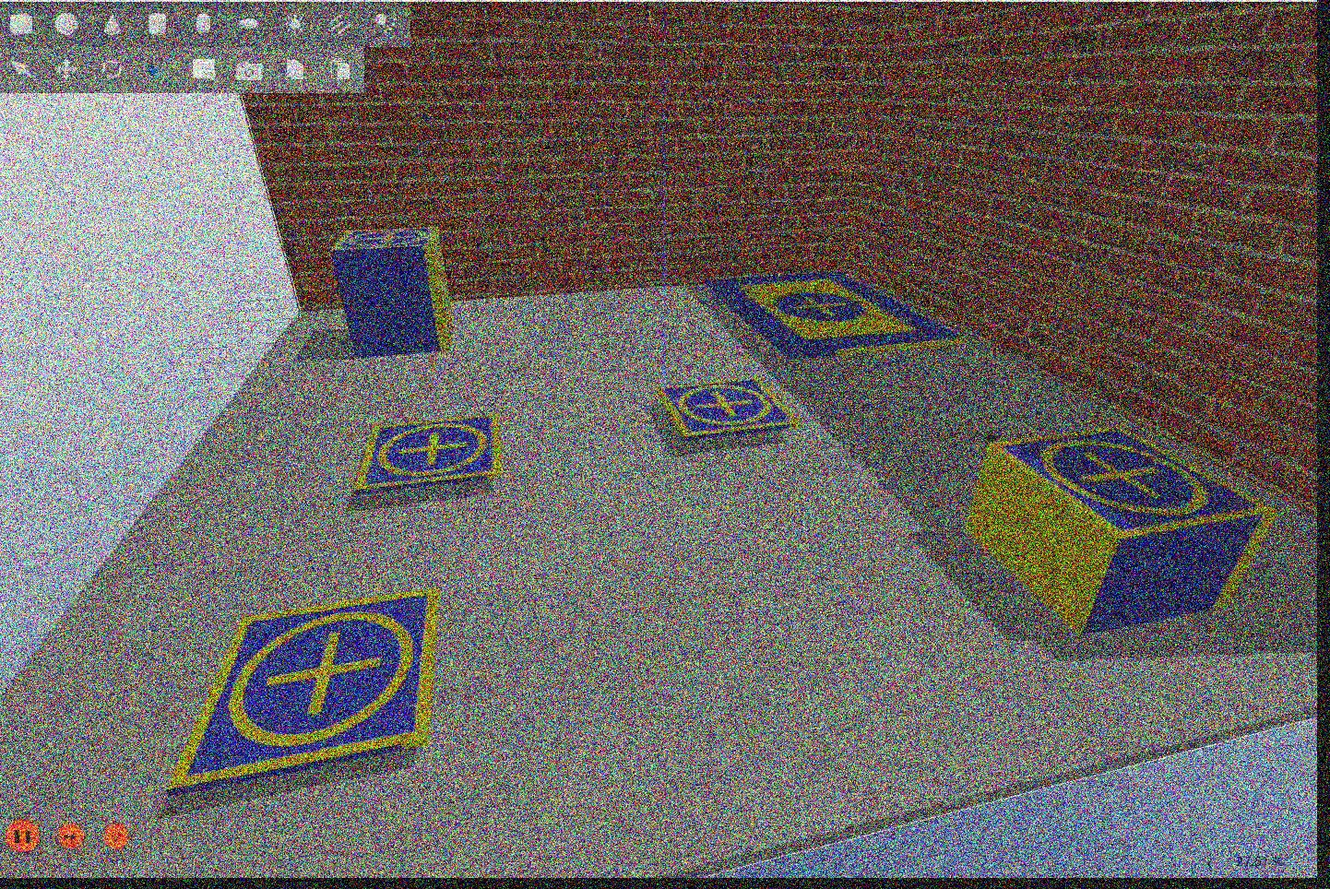large_base: (699, 269, 968, 358)
small_base: (170, 587, 433, 794), (983, 426, 1284, 539), (355, 413, 507, 493), (657, 380, 809, 445), (333, 225, 438, 256)
